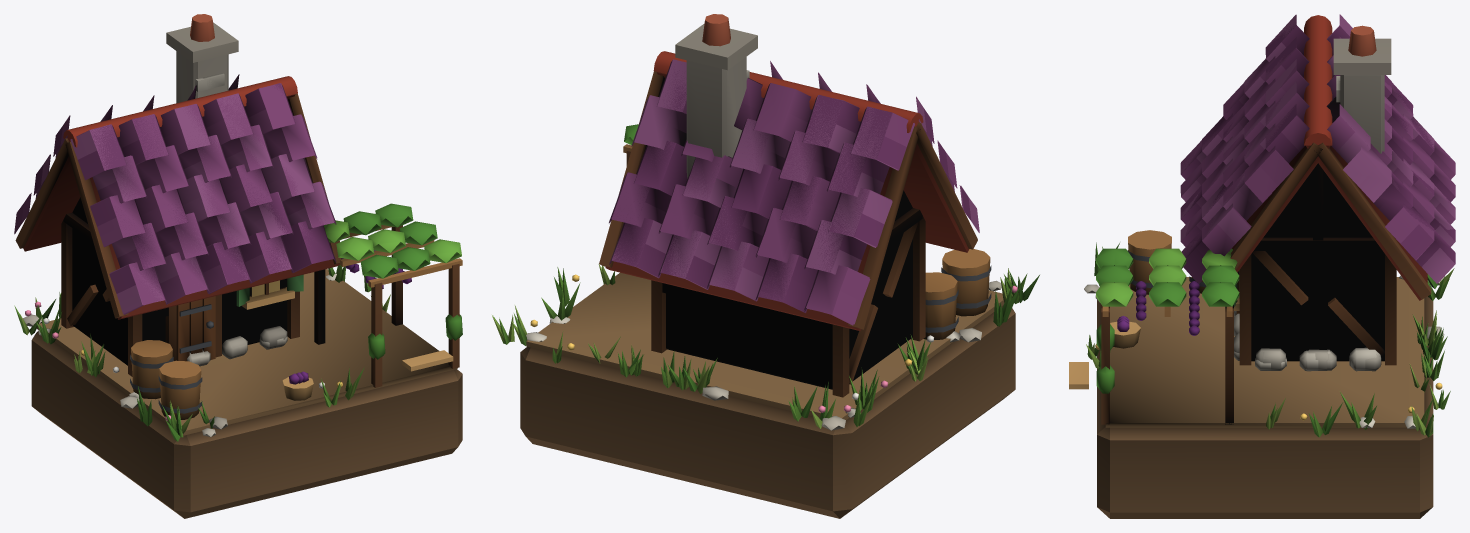
The model's file is vineyard.glb.
3 views of the same model, side by side, from view 1: azimuth 30°, elevation 25°; view 2: azimuth 150°, elevation 25°; view 3: azimuth 270°, elevation 25° (orthographic). The views are drawn at different scales.
Parts seen in each view (by area): view 1: vineyard_l1, vineyard_l2, vineyard_l3; view 2: vineyard_l1, vineyard_l3, vineyard_l2; view 3: vineyard_l1, vineyard_l2, vineyard_l3.
Part boxes in pixels (<box>): vineyard_l1: <box>14,14,462,518</box>; vineyard_l2: <box>14,75,461,441</box>; vineyard_l3: <box>14,73,453,429</box>; vineyard_l1: <box>520,14,1020,518</box>; vineyard_l3: <box>552,61,979,430</box>; vineyard_l2: <box>492,60,1039,428</box>; vineyard_l1: <box>1086,14,1455,518</box>; vineyard_l2: <box>1084,14,1455,437</box>; vineyard_l3: <box>1069,14,1455,409</box>.
Bounding box in the file's own units: 0.9228 × 1.04 × 0.8734.
